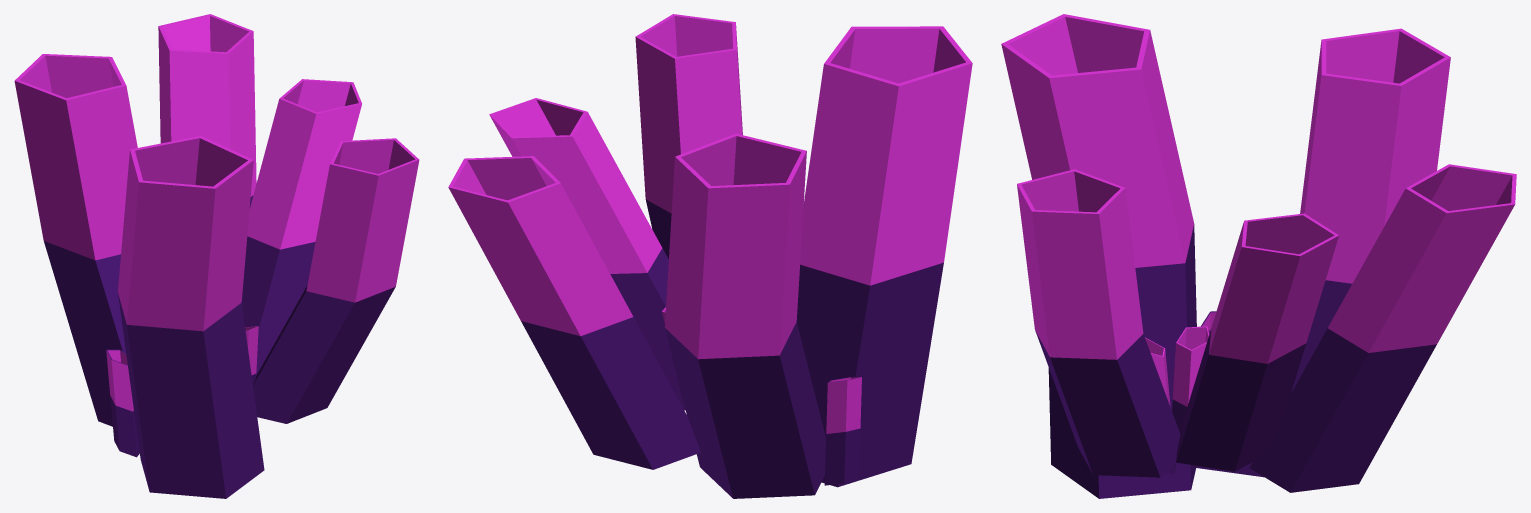
File: Esponja.fbx
3 views of the same model, side by side, from view 1: azimuth 30°, elevation 25°; view 2: azimuth 150°, elevation 25°; view 3: azimuth 270°, elevation 25° (orthographic). The views are drawn at different scales.
Parts seen in each view (by area): view 1: Circle.001; view 2: Circle.001; view 3: Circle.001.
Part boxes in pixels (bbox=[...]): Circle.001: bbox=[14, 14, 419, 498]; Circle.001: bbox=[448, 14, 972, 498]; Circle.001: bbox=[1001, 14, 1516, 498].
Size of the model in its own units: 152 by 154 by 179.
